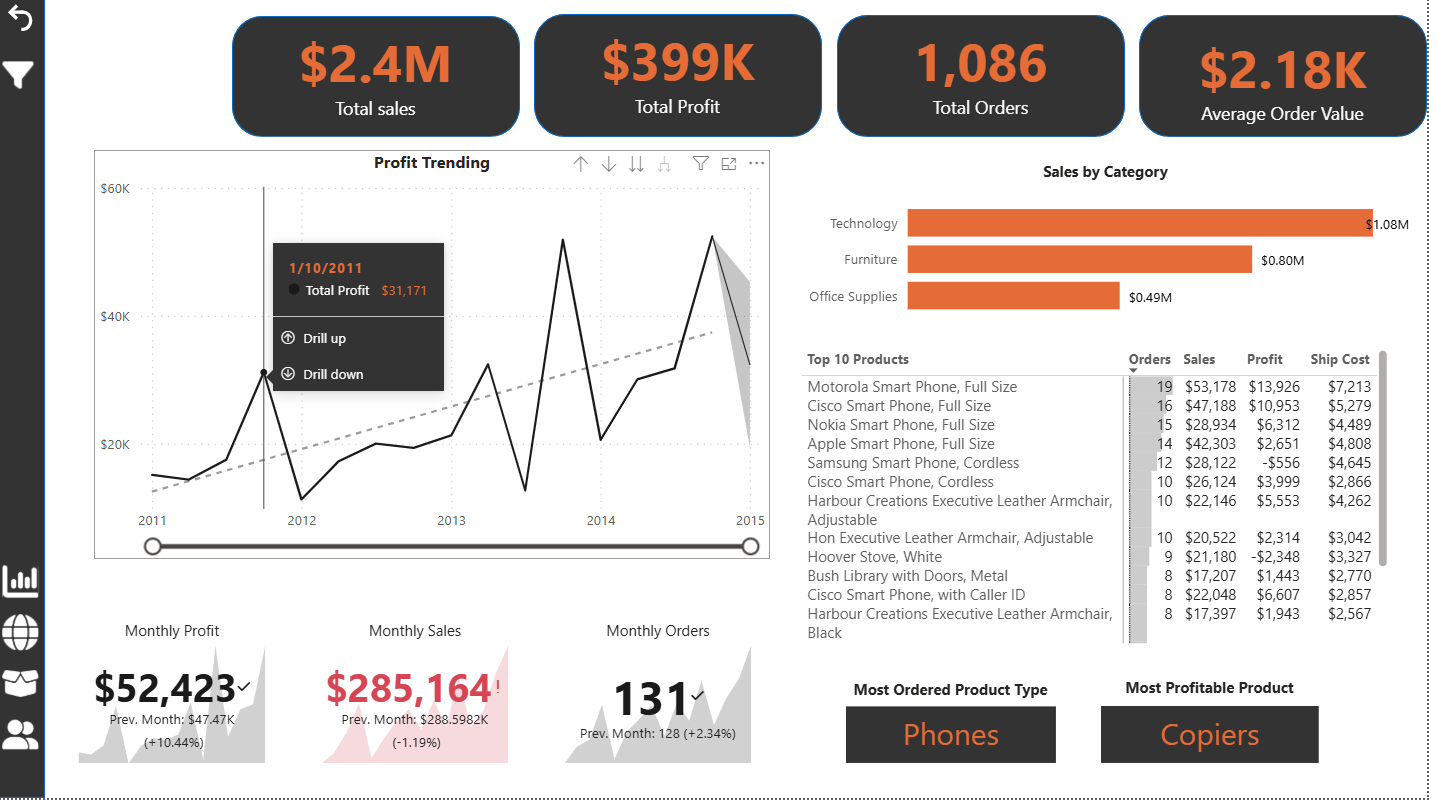

What the dashboard file says about the page in this screenshot:
{"tool":"powerbi","page":{"name":"Executive Dashboard","canvas":[1280,720],"ordinal":0},"visuals":[{"type":"shape","box":[480,17.8,257.9,110.1],"z":0,"group":"g2"},{"type":"shape","box":[751,18.7,257.9,109.3],"z":0,"group":"g3"},{"type":"shape","box":[1022,18.7,257.9,109.3],"z":0,"group":"g4"},{"type":"group","id":"g1","title":"card","box":[210,19.6,257.9,108.4],"z":0},{"type":"shape","box":[210,19.6,257.9,108.4],"z":0,"group":"g1"},{"type":"actionButton","box":[0,506,42.1,40.3],"z":0,"group":"g5"},{"type":"group","id":"g2","title":"card","box":[480,17.8,257.9,110.1],"z":1000},{"type":"card","fields":{"Values":["Measure Table.Total Profit"]},"box":[506.2,25.1,205.1,86.9],"z":1000,"group":"g2"},{"type":"card","fields":{"Values":["Measure Table.Total Orders"]},"box":[777,26,205.1,86.9],"z":1000,"group":"g3"},{"type":"card","fields":{"Values":["Measure Table.Total sales"]},"box":[235.6,26.9,205.1,86.9],"z":1000,"group":"g1"},{"type":"card","fields":{"Values":["Measure Table.Average Order Value"]},"box":[1048,27.8,205.1,94.9],"z":1000,"group":"g4"},{"type":"actionButton","box":[0,506,42.1,40.3],"z":1000,"group":"g5"},{"type":"group","id":"g3","title":"card","box":[751,18.7,257.9,109.3],"z":2000},{"type":"actionButton","box":[0,643,42.1,40.3],"z":2000,"group":"g5"},{"type":"group","id":"g4","title":"card","box":[1022,18.7,257.9,109.3],"z":3000},{"type":"actionButton","box":[0,643,42.1,40.3],"z":3000,"group":"g5"},{"type":"lineChart","title":"Profit Trending","fields":{"Y":["Measure Table.Total Profit"],"Category":["bi_sales dim_date.year","bi_sales dim_date.Start of Quarter","bi_sales dim_date.Start of Month"]},"box":[86,139.7,605.4,366.3],"z":4000},{"type":"actionButton","box":[0,597.3,42.1,40.3],"z":4000,"group":"g5"},{"type":"clusteredBarChart","title":"Sales by Category","fields":{"Category":["bi_sales dim_product.category"],"Y":["Measure Table.Total sales"]},"box":[714.6,149.6,554.3,152.2],"z":5000},{"type":"actionButton","box":[0,597.3,42.1,40.3],"z":5000,"group":"g5"},{"type":"actionButton","box":[0,551.7,42.1,40.3],"z":6000,"group":"g5"},{"type":"kpi","title":"Monthly Profit ","fields":{"Indicator":["Measure Table.Total Profit"],"TrendLine":["bi_sales dim_date.Start of Month"],"Goal":["Measure Table.Prev. Month Profits"]},"box":[67.2,560.6,177.3,133.4],"z":6000},{"type":"actionButton","box":[0,551.7,42.1,40.3],"z":7000,"group":"g5"},{"type":"kpi","title":"Monthly Sales","fields":{"TrendLine":["bi_sales dim_date.Start of Month"],"Indicator":["Measure Table.Total sales"],"Goal":["Measure Table.Prev. Month Sales"]},"box":[284.8,560.6,177.3,133.4],"z":7000},{"type":"kpi","title":"Monthly Orders ","fields":{"TrendLine":["bi_sales dim_date.Start of Month"],"Indicator":["Measure Table.Total Orders"],"Goal":["Measure Table.Prev. Month Orders"]},"box":[502.4,560.6,177.3,133.4],"z":8000},{"type":"pivotTable","fields":{"Rows":["bi_sales dim_product.product_name"],"Values":["Measure Table.Total Orders","Measure Table.Total sales","Measure Table.Total Profit","Measure Table.Total Shipping Cost"]},"box":[714.6,313.4,534.6,273.1],"z":9000},{"type":"card","fields":{"Values":["Min(bi_sales dim_product.sub_category)"]},"box":[759.4,637.6,188.1,51],"z":10000},{"type":"textbox","box":[753.1,609,199.7,28.7],"z":11000},{"type":"card","fields":{"Values":["Min(bi_sales dim_product.sub_category)"]},"box":[987.8,637.6,195.2,51],"z":12000},{"type":"textbox","box":[991.3,607.2,187.2,30.4],"z":13000},{"type":"shape","box":[0,0,42.1,720],"z":14000},{"type":"actionButton","box":[3.6,4.5,38.5,33.1],"z":15000},{"type":"group","id":"g5","title":"Nav Buttons","box":[0,506,42.1,177.3],"z":16000},{"type":"actionButton","box":[0,54.6,42.1,35.8],"z":17000}]}

Visuals, with their boxes on the page's 1280x720 design canvas (x1, y1, x2, y2). These are canvas units, not pixel positions in the 1437x802 screenshot, which may show the page scaled, cropped or inside an application window:
shape: 480, 18, 738, 128
shape: 751, 19, 1009, 128
shape: 1022, 19, 1280, 128
"card" group: 210, 20, 468, 128
shape: 210, 20, 468, 128
actionButton: 0, 506, 42, 546
"card" group: 480, 18, 738, 128
card - Measure Table.Total Profit: 506, 25, 711, 112
card - Measure Table.Total Orders: 777, 26, 982, 113
card - Measure Table.Total sales: 236, 27, 441, 114
card - Measure Table.Average Order Value: 1048, 28, 1253, 123
actionButton: 0, 506, 42, 546
"card" group: 751, 19, 1009, 128
actionButton: 0, 643, 42, 683
"card" group: 1022, 19, 1280, 128
actionButton: 0, 643, 42, 683
"Profit Trending" lineChart: 86, 140, 691, 506
actionButton: 0, 597, 42, 638
"Sales by Category" clusteredBarChart: 715, 150, 1269, 302
actionButton: 0, 597, 42, 638
actionButton: 0, 552, 42, 592
"Monthly Profit " kpi: 67, 561, 244, 694
actionButton: 0, 552, 42, 592
"Monthly Sales" kpi: 285, 561, 462, 694
"Monthly Orders " kpi: 502, 561, 680, 694
pivotTable - bi_sales dim_product.product_name x Measure Table.Total Orders: 715, 313, 1249, 586
card - Min(bi_sales dim_product.sub_category): 759, 638, 948, 689
textbox: 753, 609, 953, 638
card - Min(bi_sales dim_product.sub_category): 988, 638, 1183, 689
textbox: 991, 607, 1178, 638
shape: 0, 0, 42, 720
actionButton: 4, 4, 42, 38
"Nav Buttons" group: 0, 506, 42, 683
actionButton: 0, 55, 42, 90
